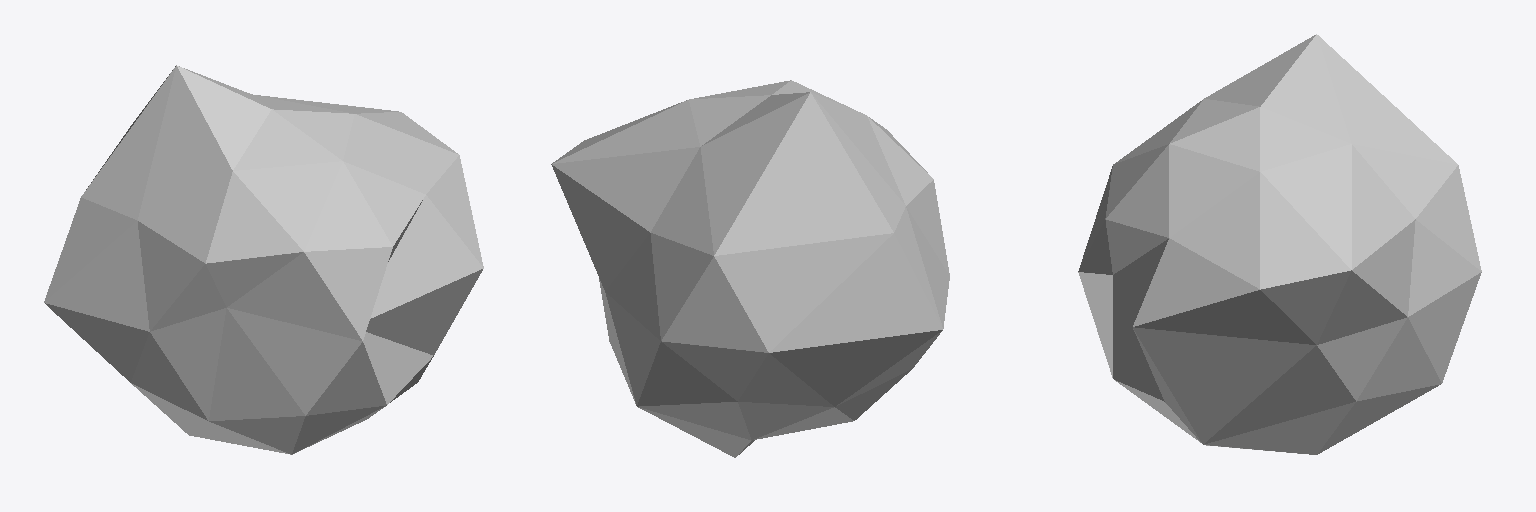
File: asteroid2.obj
The picture shows the model from 3 angles: view 1: azimuth 30°, elevation 25°; view 2: azimuth 150°, elevation 25°; view 3: azimuth 270°, elevation 25°; orthographic projection.
Visible parts, largest first — view 1: Icosphere.001_Icosphere.002; view 2: Icosphere.001_Icosphere.002; view 3: Icosphere.001_Icosphere.002.
Part boxes in pixels (left/top/right/bottom): Icosphere.001_Icosphere.002: left=44, top=65, right=483, bottom=454; Icosphere.001_Icosphere.002: left=551, top=80, right=949, bottom=457; Icosphere.001_Icosphere.002: left=1078, top=34, right=1481, bottom=454.
Size of the model in its own units: 2.17 by 2.06 by 1.96.